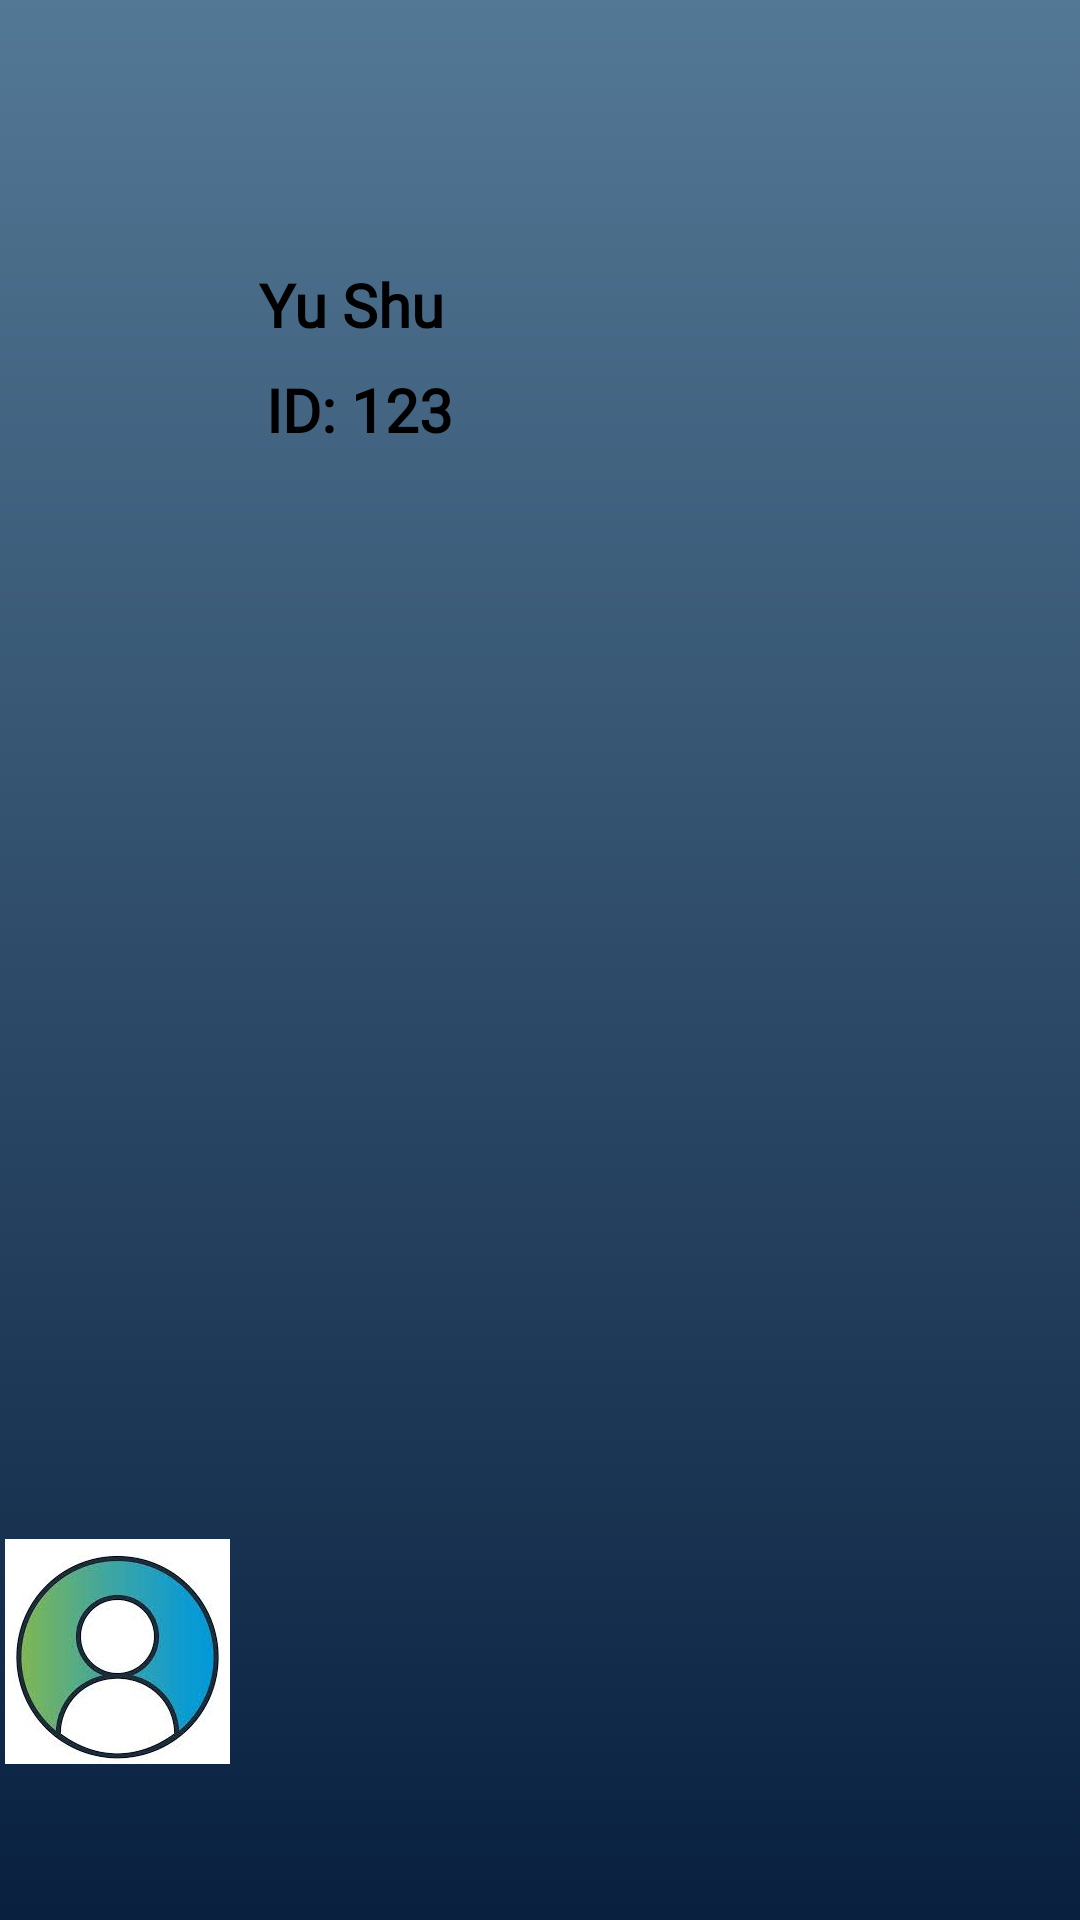

Screen size 1080px x 1920px. Icon name, then its box in pixels as (x1, y1, x2, y2):
user head photo: (5, 1539, 230, 1764)
